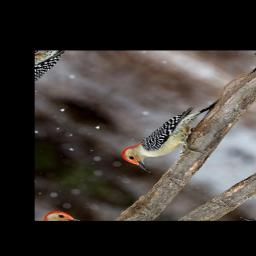Woodpecker: (116, 90, 249, 183)
